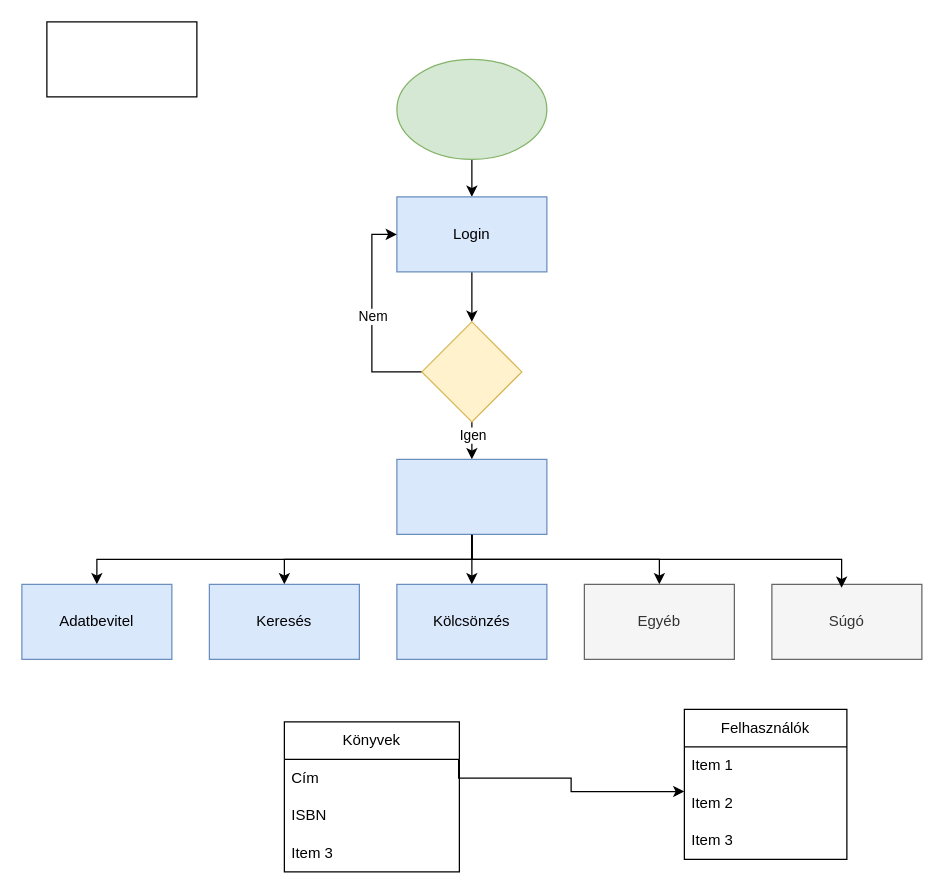
Image size: 944x894. Some labels were removed from this diagram. The shapes that lost their labels are listed below. From the top down, each one's centre as x and y in pixels, then its label:
the point at 121,59: WPF Asztali Alkalmazás
the point at 471,108: START
the point at 471,371: Megfelelő belépési adatok?
the point at 471,496: Megjelenik a "MAIN" felület
